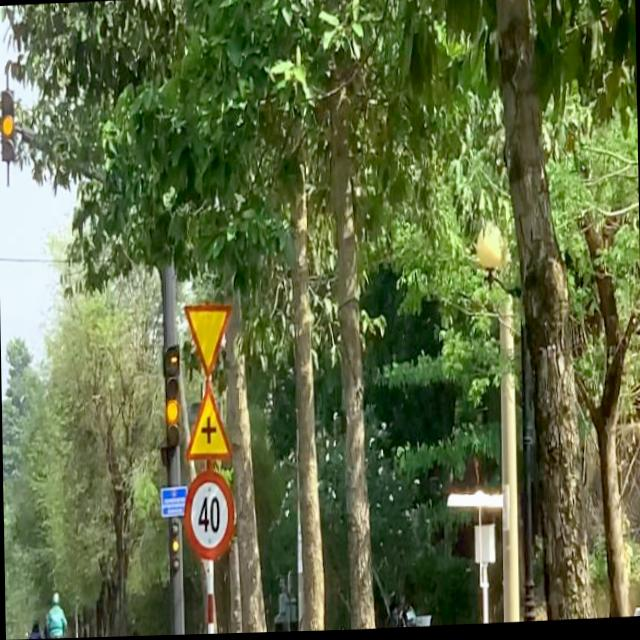Giao nhau voi duong uu tien: (182, 297, 233, 384)
Toc do toi da cho phep: (184, 471, 235, 563)
